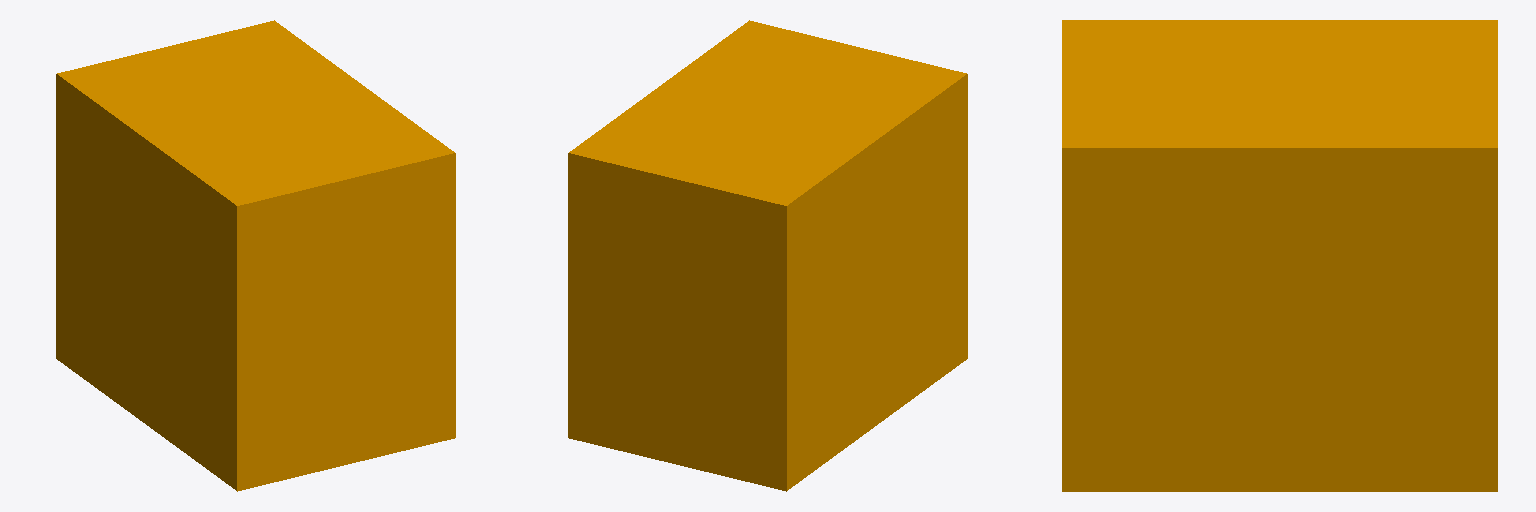
The robot description file, URDF, robot "object":
<robot name="object">
  <link name="object">
    <visual>
      <origin xyz="0 0 0" />
      <geometry>
        <box size="0.064 0.09200000000000003 0.08" />
      </geometry>
    </visual>

    <collision>
      <origin xyz="0 0 0" />
      <geometry>
        <box size="0.064 0.09200000000000003 0.08" />
      </geometry>
    </collision>

    <inertial>
      <mass value="0.05" />
      <inertia ixx="0.0001" ixy="0.0" ixz="0.0" iyy="0.0001" iyz="0.0" izz="0.0001" />
    </inertial>
  </link>
</robot>

--- Facts derived from the render (not from the file) ---
3 views of the same robot in one strip: view 1: azimuth 30°, elevation 25°; view 2: azimuth 150°, elevation 25°; view 3: azimuth 270°, elevation 25° (orthographic).
Model object with 1 links and 0 joints (none), rooted at object, posed all joints at 0.
Links seen in each view (by area): view 1: object; view 2: object; view 3: object.
Boxes of the visible links, left/top/right/bottom form: object: left=56, top=20, right=455, bottom=491; object: left=568, top=20, right=967, bottom=491; object: left=1062, top=20, right=1497, bottom=491.
Size in the robot's own frame: 0.064 by 0.092 by 0.08 metres.
Geometry: primitives only (box / cylinder / sphere), no mesh files.